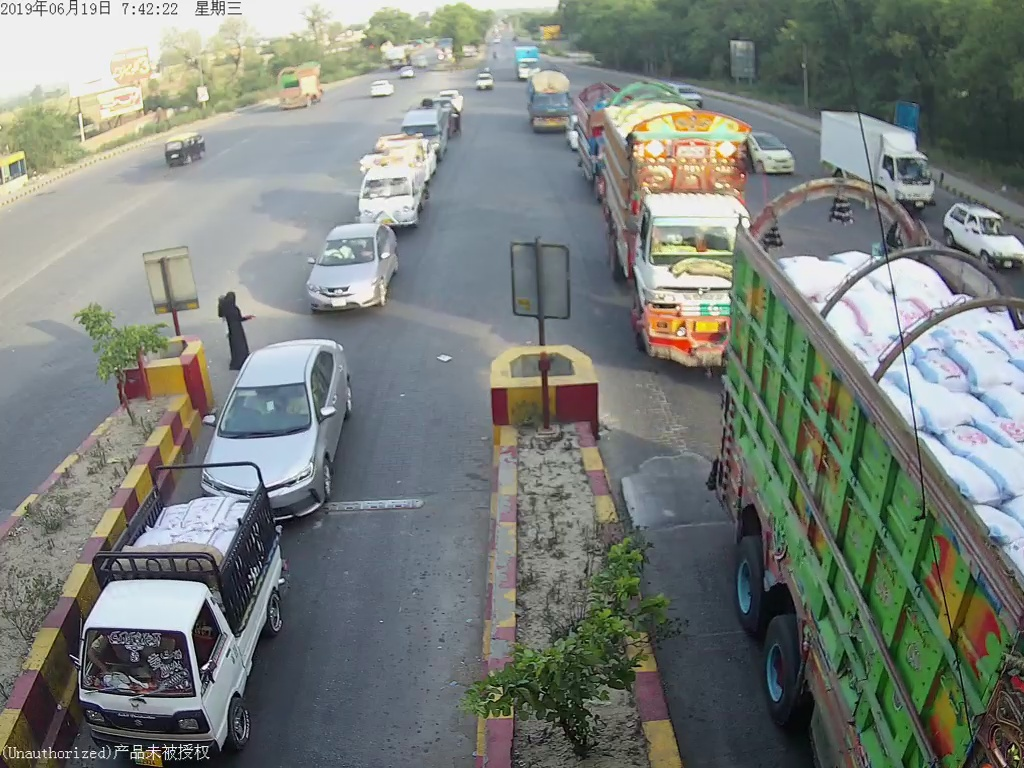Cat-1: (82, 470, 292, 749), (207, 347, 345, 480), (299, 220, 414, 314)
Cat-2: (356, 158, 431, 217)
Cat-4: (604, 108, 726, 376)
